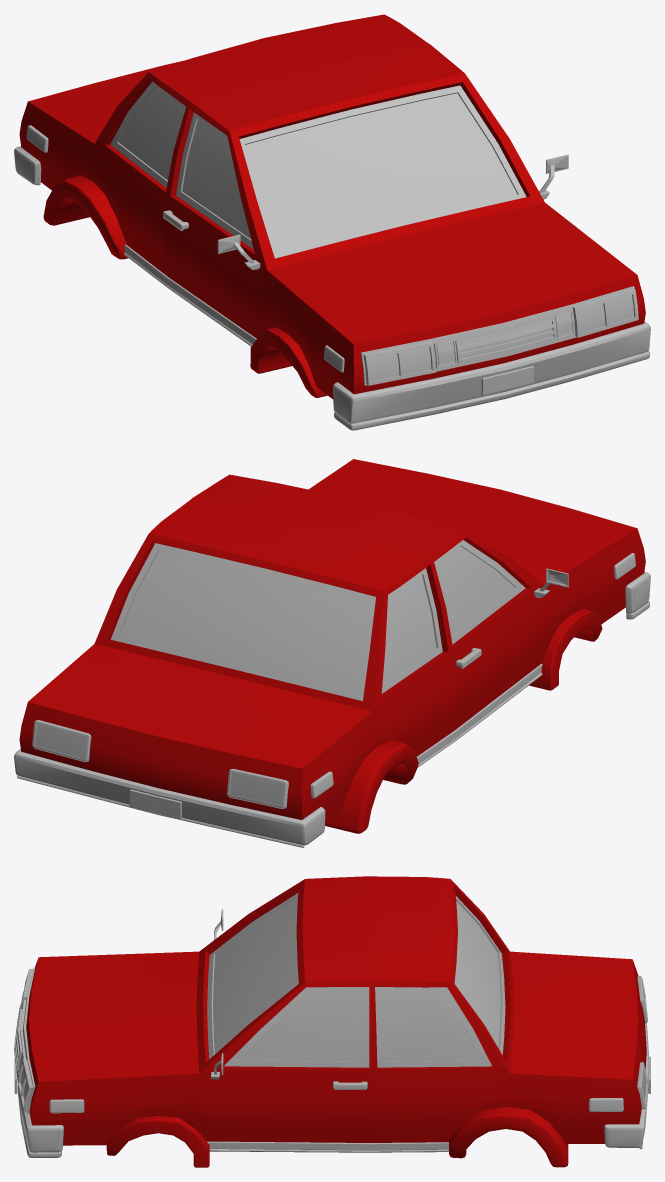
The model's file is no_police2.fbx.
The picture shows the model from 3 angles, top to bottom: view 1: azimuth 30°, elevation 25°; view 2: azimuth 150°, elevation 25°; view 3: azimuth 270°, elevation 25°; orthographic projection. The views are drawn at different scales.
Visible parts, largest first — view 1: separated_72; view 2: separated_72; view 3: separated_72.
Boxes of the visible parts, x1,y1,x2,y2 form: separated_72: [14, 14, 650, 430]; separated_72: [14, 459, 650, 847]; separated_72: [14, 876, 650, 1167].
Bounding box in the file's own units: 722 × 387 × 1259.
